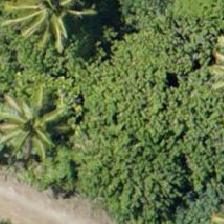coconut_tree: (8, 0, 98, 49)
